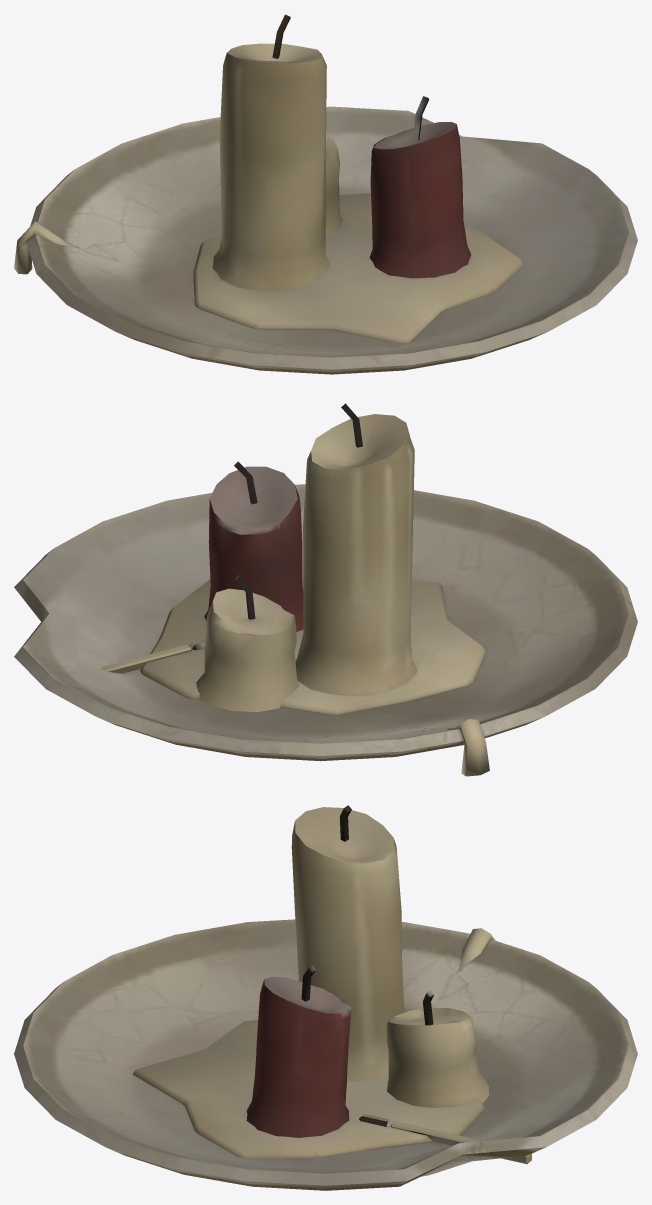
Rendered from dressing_candles.glb.
3 views of the same model, one above another, from view 1: azimuth 30°, elevation 25°; view 2: azimuth 150°, elevation 25°; view 3: azimuth 270°, elevation 25° (orthographic). The views are drawn at different scales.
Visible parts, largest first — view 1: dressing_candles; view 2: dressing_candles; view 3: dressing_candles.
Part boxes in pixels (x1=…): dressing_candles: x1=14, y1=14, x2=637, y2=374; dressing_candles: x1=14, y1=403, x2=637, y2=776; dressing_candles: x1=14, y1=805, x2=637, y2=1190.
Bounding box in the file's own units: 0.136 × 0.0726 × 0.136.
Materials: 1 (1 with a texture image).
